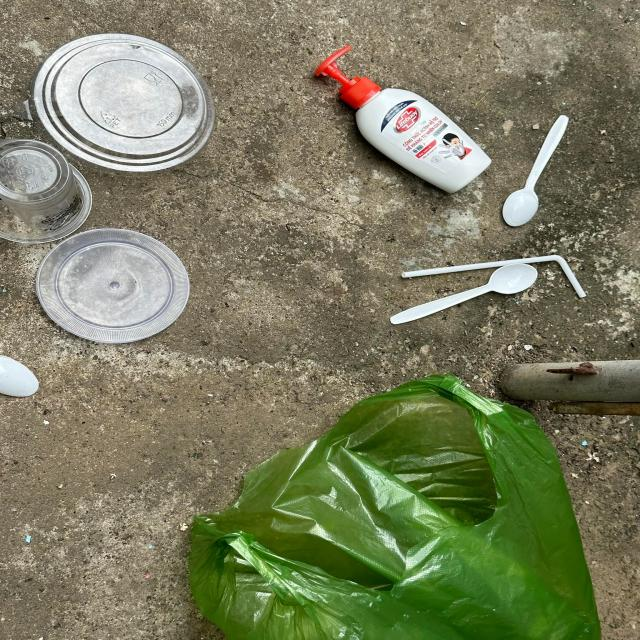bag: (189, 372, 602, 640)
bottle: (314, 44, 494, 194)
drinking straw: (401, 255, 586, 298)
lid: (27, 32, 218, 174), (35, 227, 191, 345)
plastic glass: (0, 138, 94, 244)
plastic utensil: (390, 263, 538, 325), (502, 115, 570, 227)
